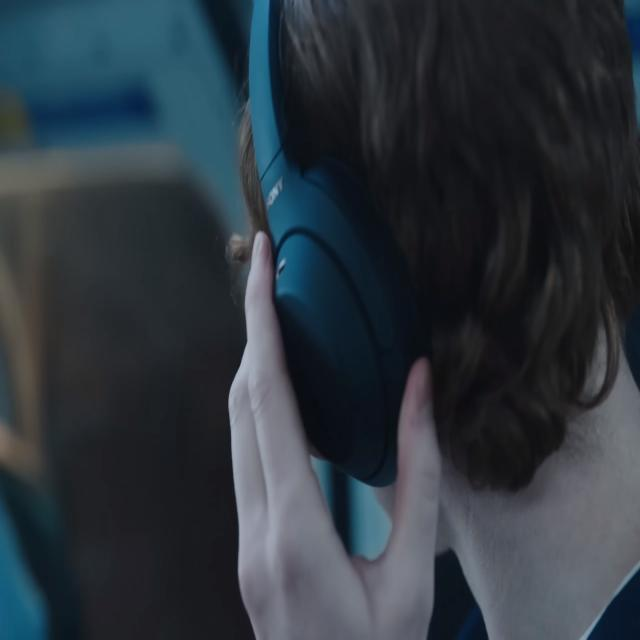Headphone: (249, 1, 430, 488)
